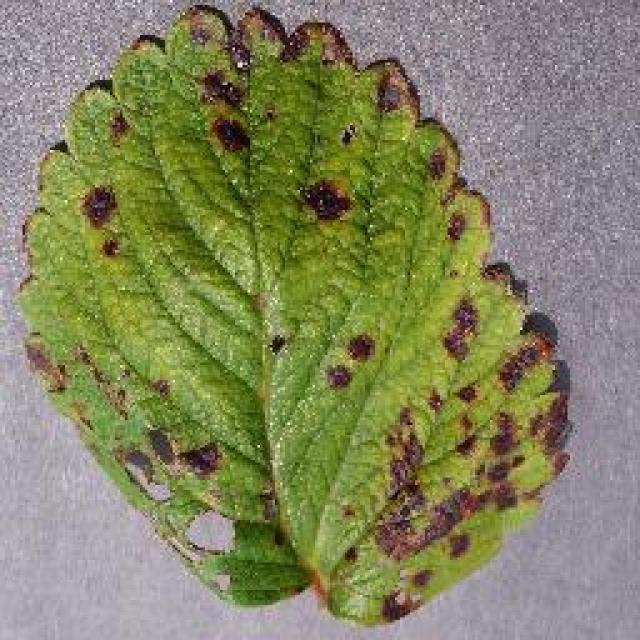Strawberry leaf scorch: (138, 23, 545, 562)
